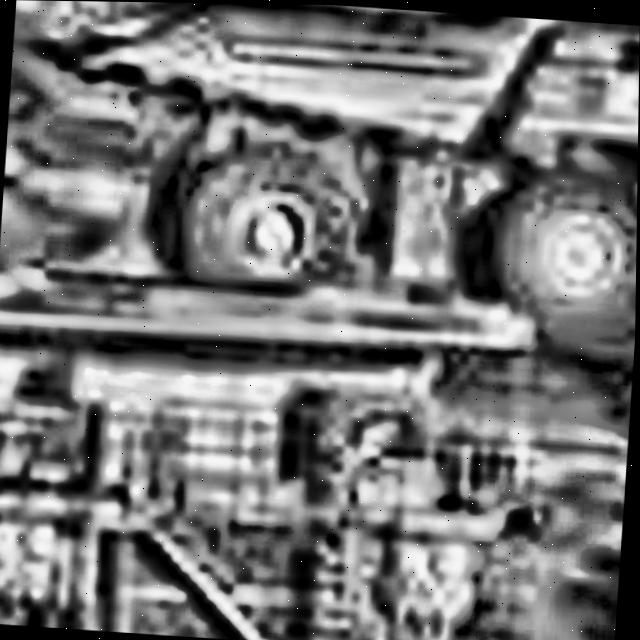dump_truck: (0, 228, 540, 640), (69, 1, 640, 328)
